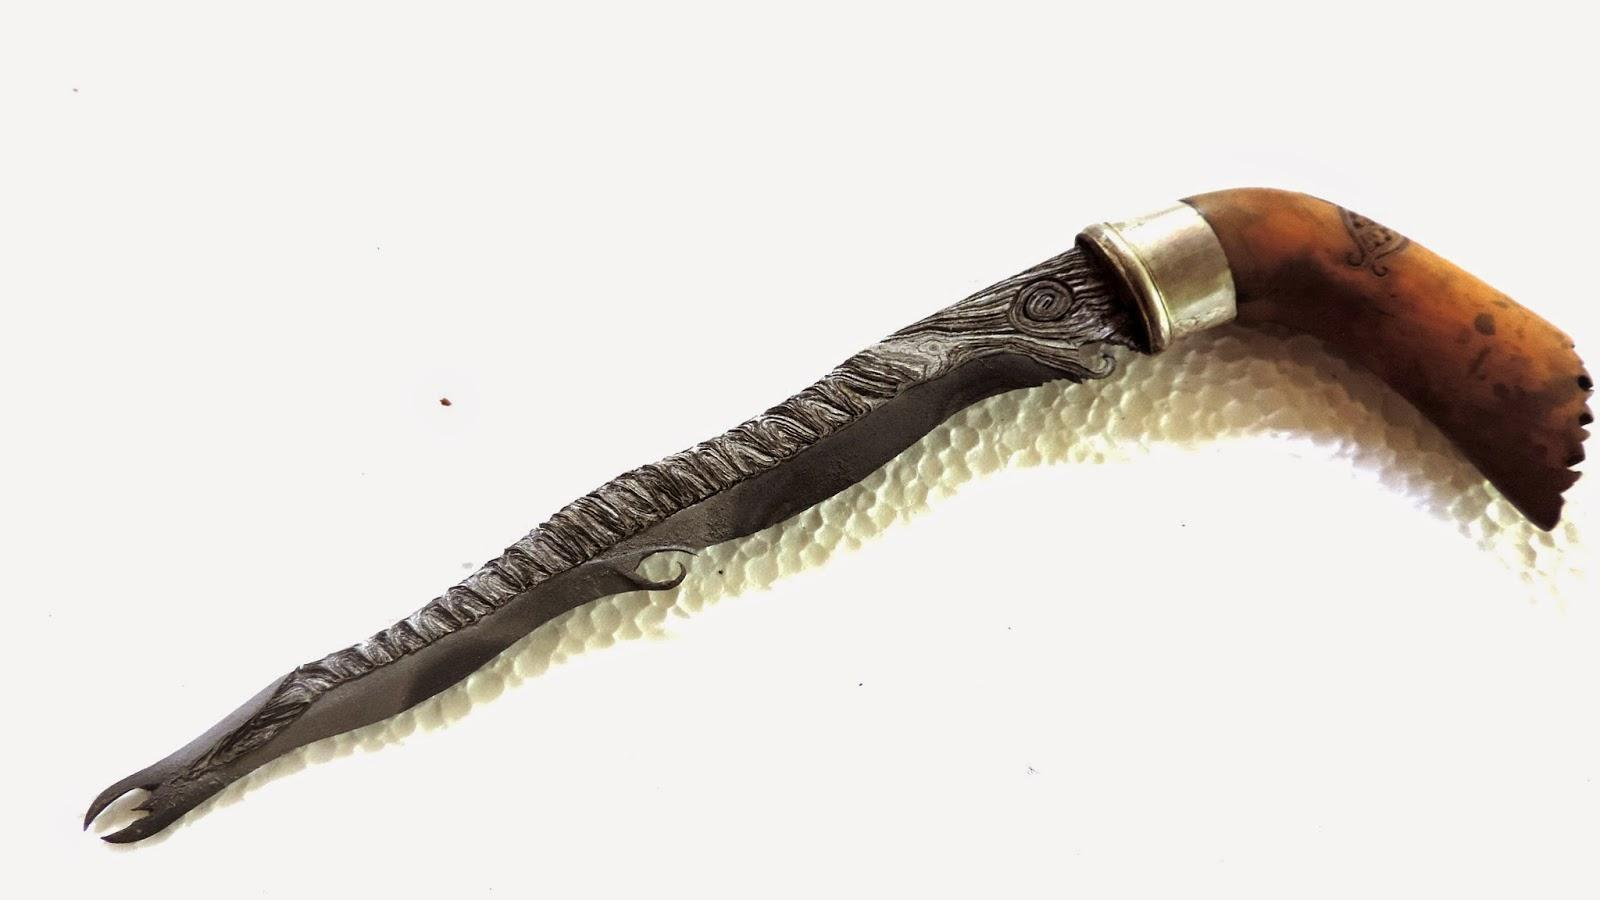facao: (87, 188, 1592, 842)
